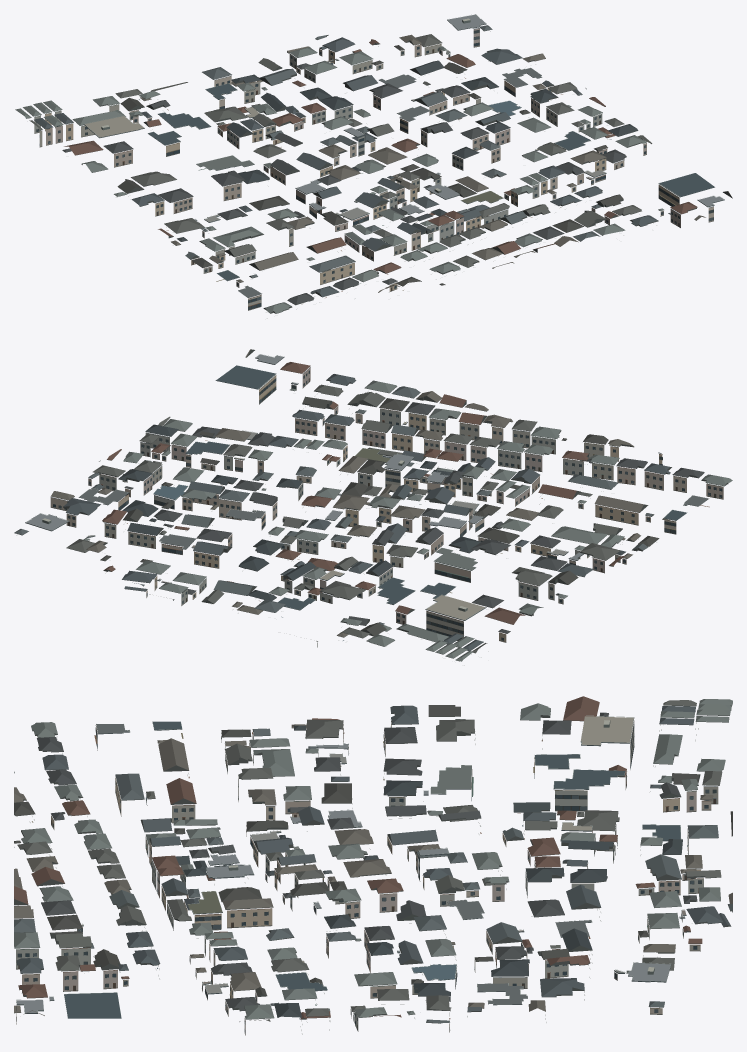
3 views of the same model, one above another, from view 1: azimuth 30°, elevation 25°; view 2: azimuth 150°, elevation 25°; view 3: azimuth 270°, elevation 25° (orthographic). The views are drawn at different scales.
Visible parts, largest first — view 1: r5-c5; view 2: r5-c5; view 3: r5-c5.
Boxes of the visible parts, box(x1,y1,x2,y2) form: r5-c5: box(15, 14, 732, 318); r5-c5: box(14, 349, 732, 665); r5-c5: box(14, 696, 732, 1035).
Size of the model in its own units: 250 by 20.66 by 250.
